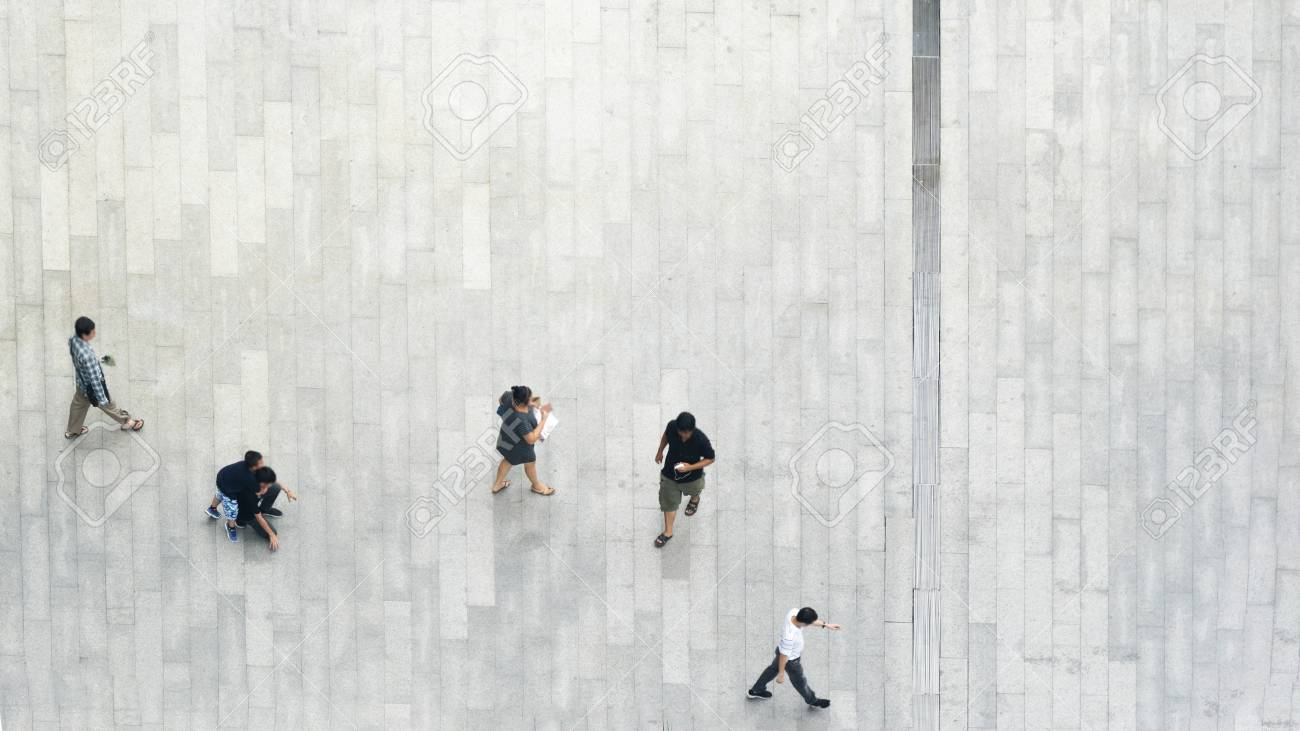person: (746, 601, 847, 716), (58, 316, 151, 440), (650, 409, 723, 548), (489, 378, 568, 503), (202, 441, 261, 539), (246, 466, 302, 557)
